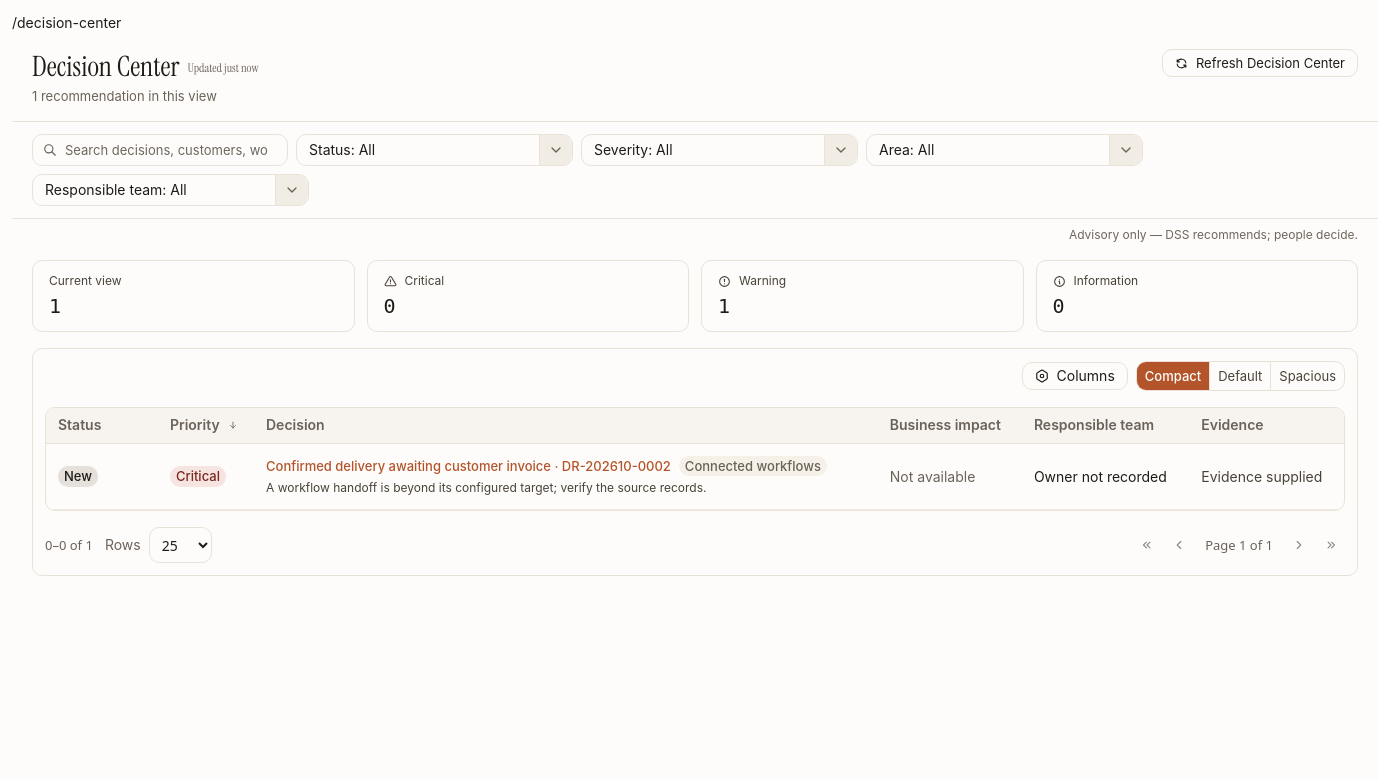
Decision Center › hides cached recommendations after a refresh fails
The width and height of the screenshot is (1378, 780).
Expected: the link "Confirmed delivery awaiting customer invoice" is shown, [266,457,671,475]
Click the button "Refresh Decision Center". click: (1260, 63)
box: [1162,49,1358,77]
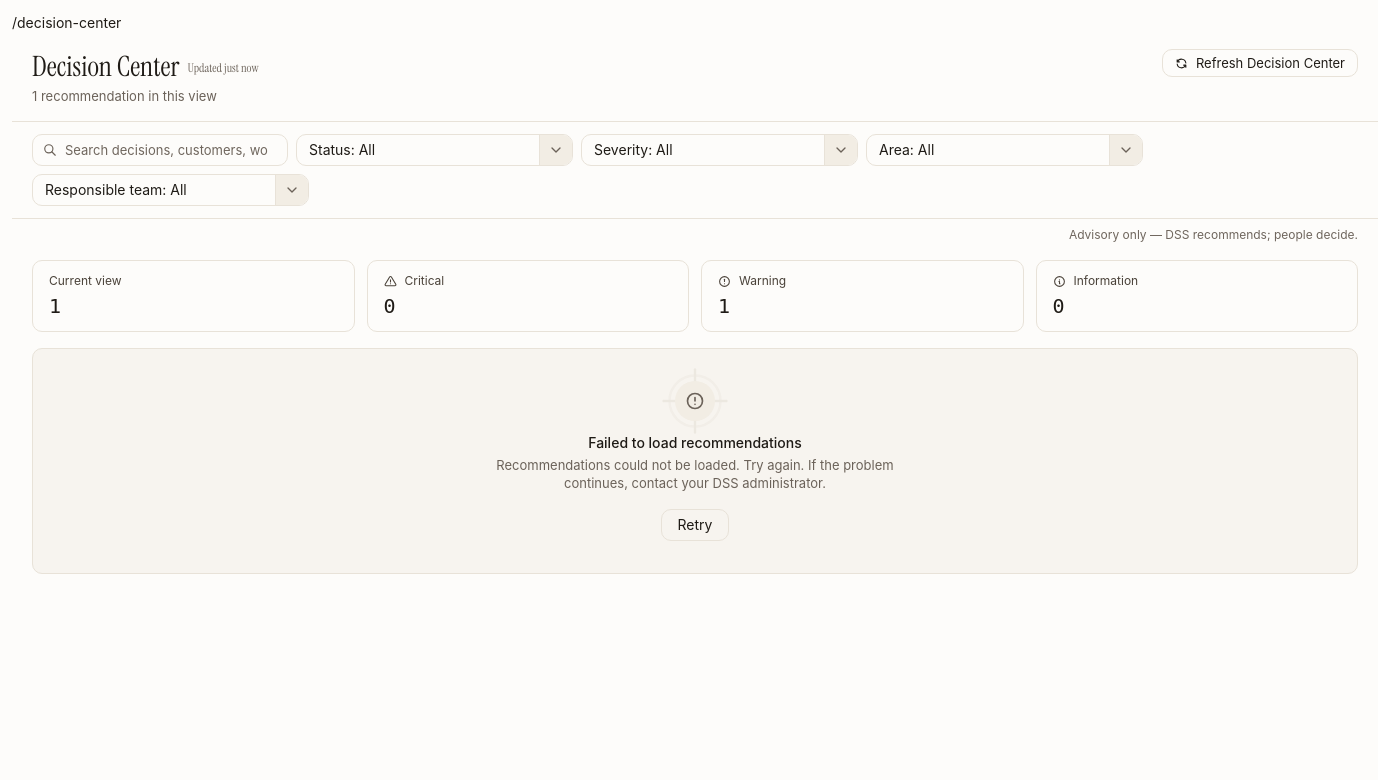
Expected: the heading "Failed to load recommendations" is shown, [588,433,802,452]
Expected: the link "Confirmed delivery awaiting customer invoice" is gone
